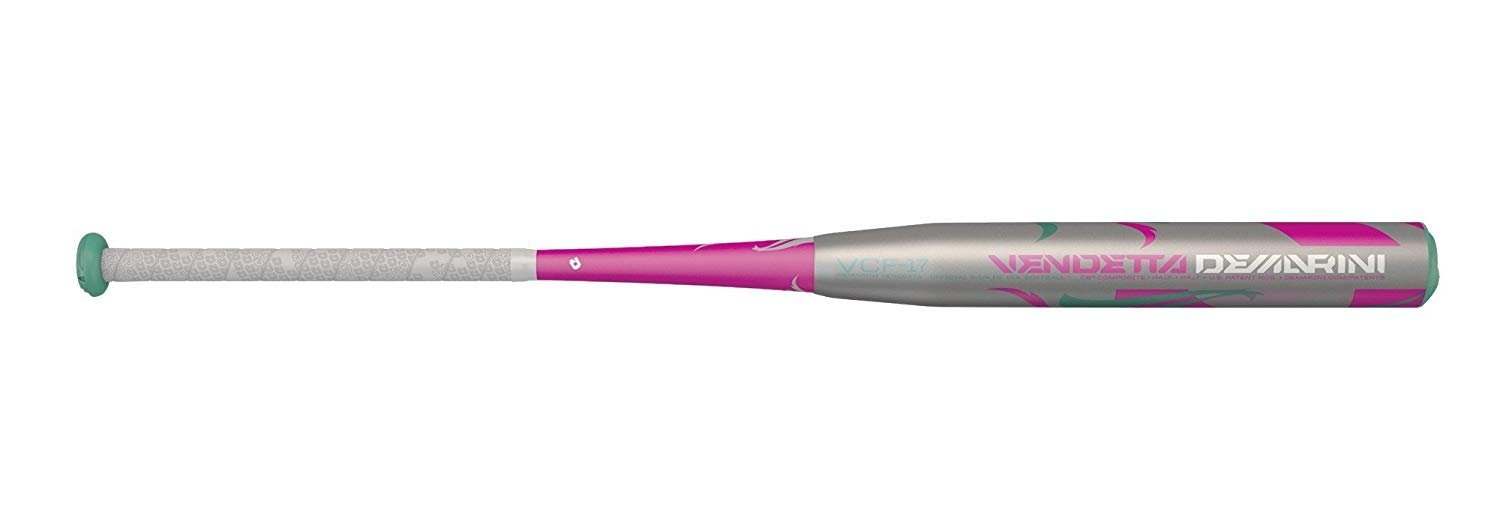bita: (64, 220, 1433, 310)
